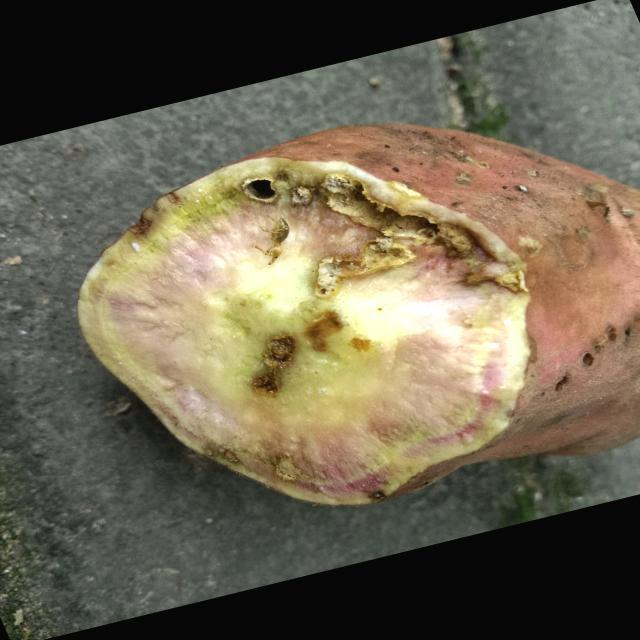Sick Sweet Potato_Tuber Rot: (78, 159, 530, 505)
